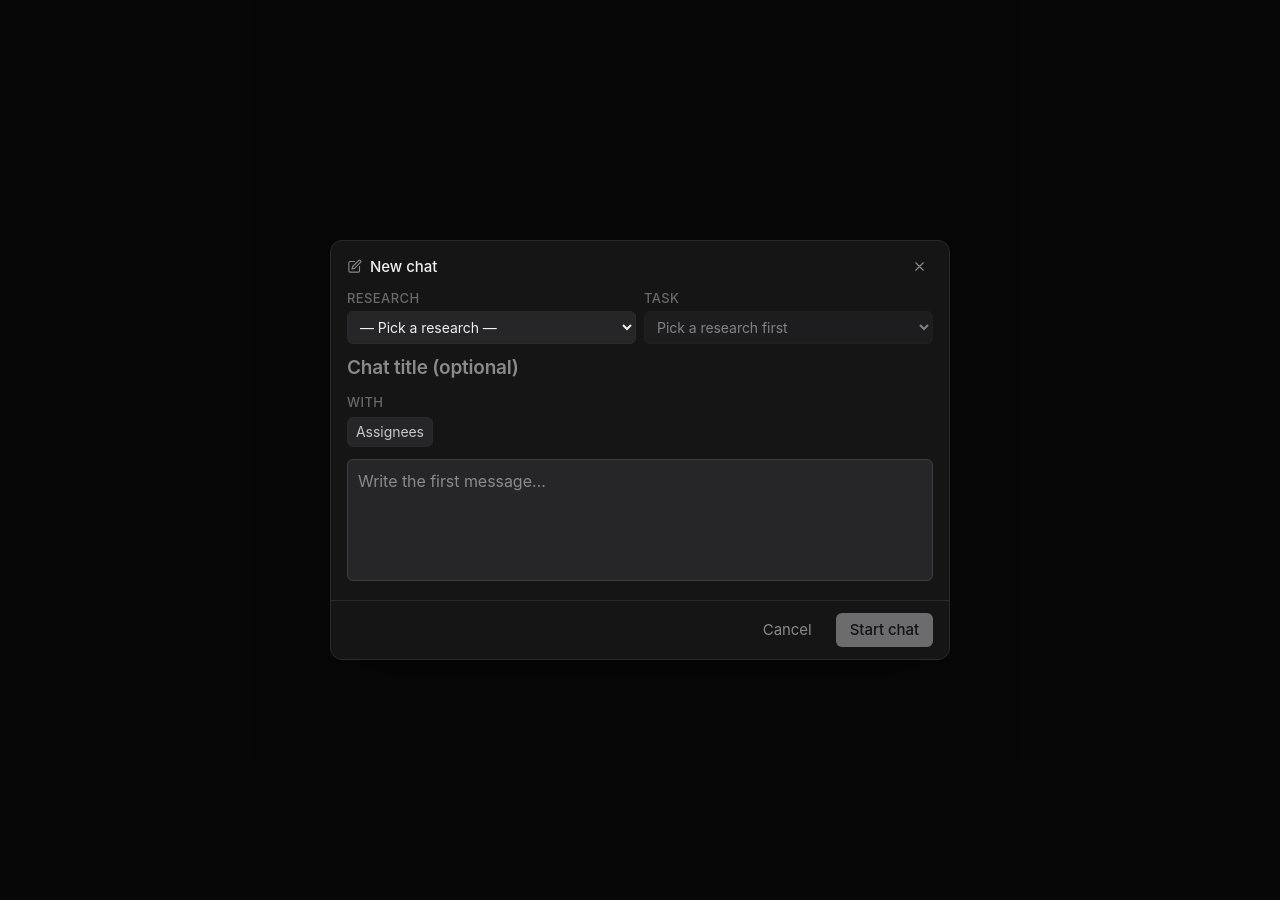
Test: will not start until it has a subject and something to say
Check: the button "Start chat" is disabled, box [836,613,933,647]
Check: the dropdown labelled "Task" is disabled, box [644,311,933,344]
Step 1. Select "CMP · Cross-modal plasticity in the brain" in the dropdown labelled "Research" → (492, 328), box [347,311,636,344]
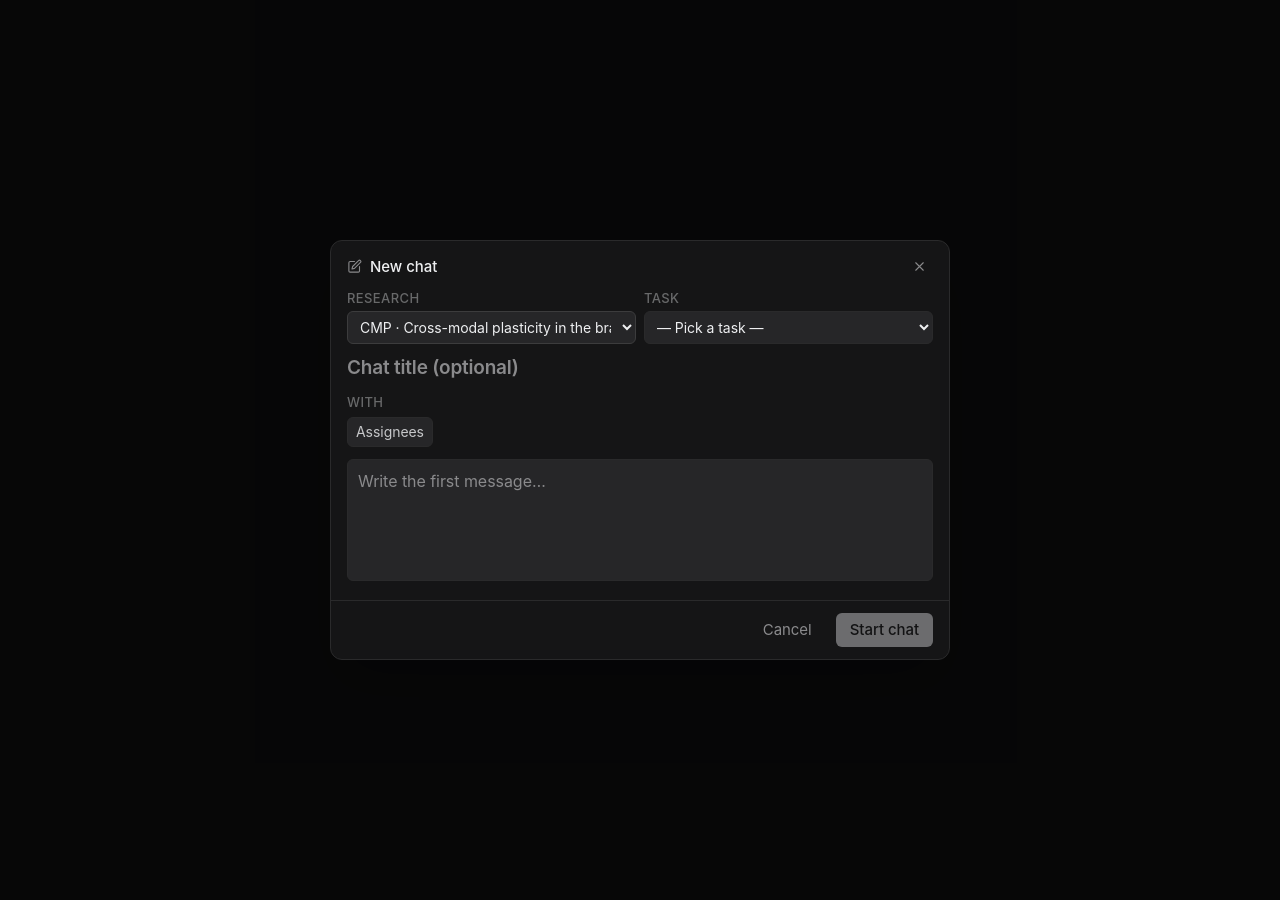
Check: the button "Start chat" is disabled, box [836,613,933,647]
Step 2. Select "CMP-3 · Preprocess two-photon calcium traces" in the dropdown labelled "Task" → (788, 328), box [644,311,933,344]
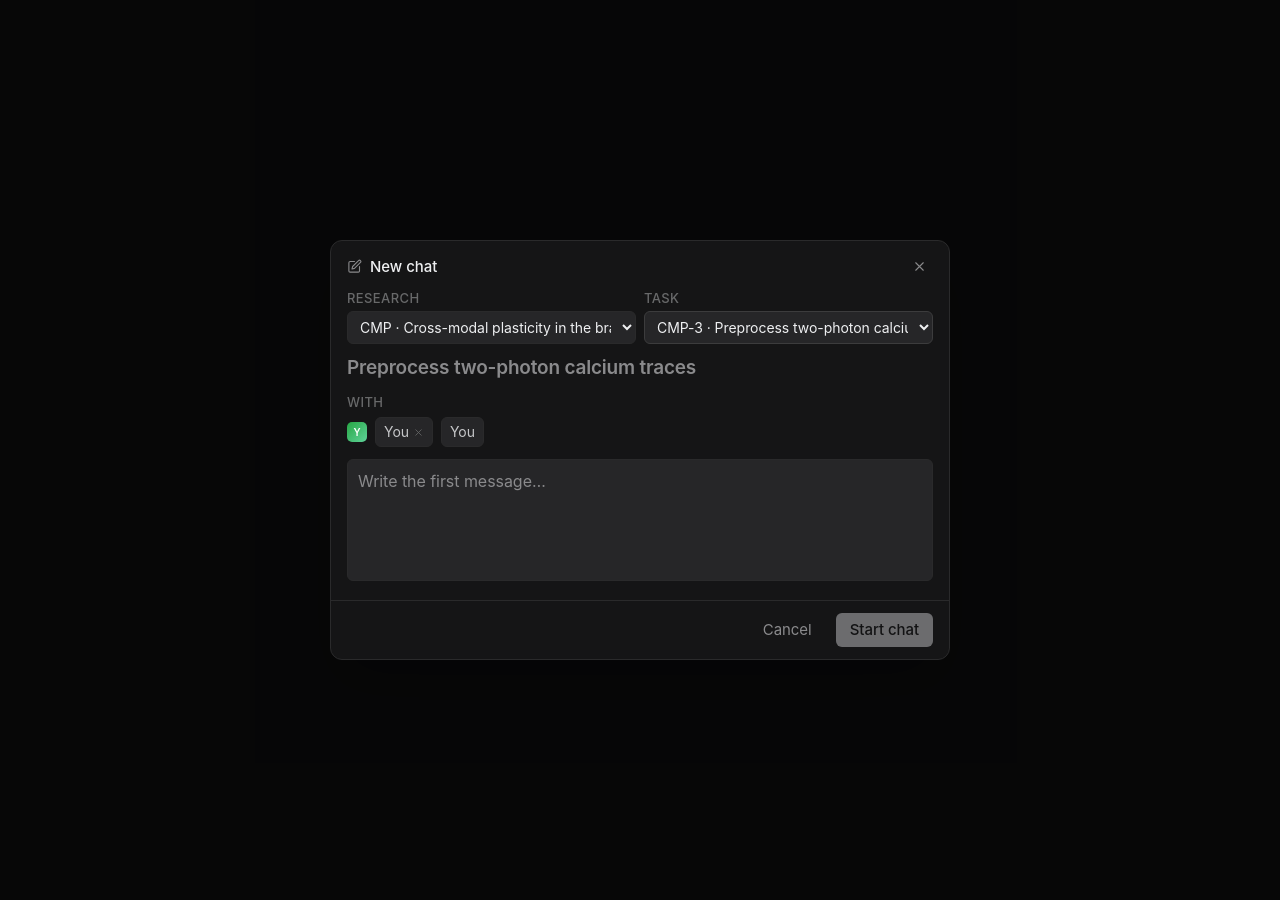
Check: the button "Start chat" is disabled, box [836,613,933,647]
Step 3. Type "Does 512 hold up?" into the text box labelled "first message" → (640, 520), box [347,459,933,581]
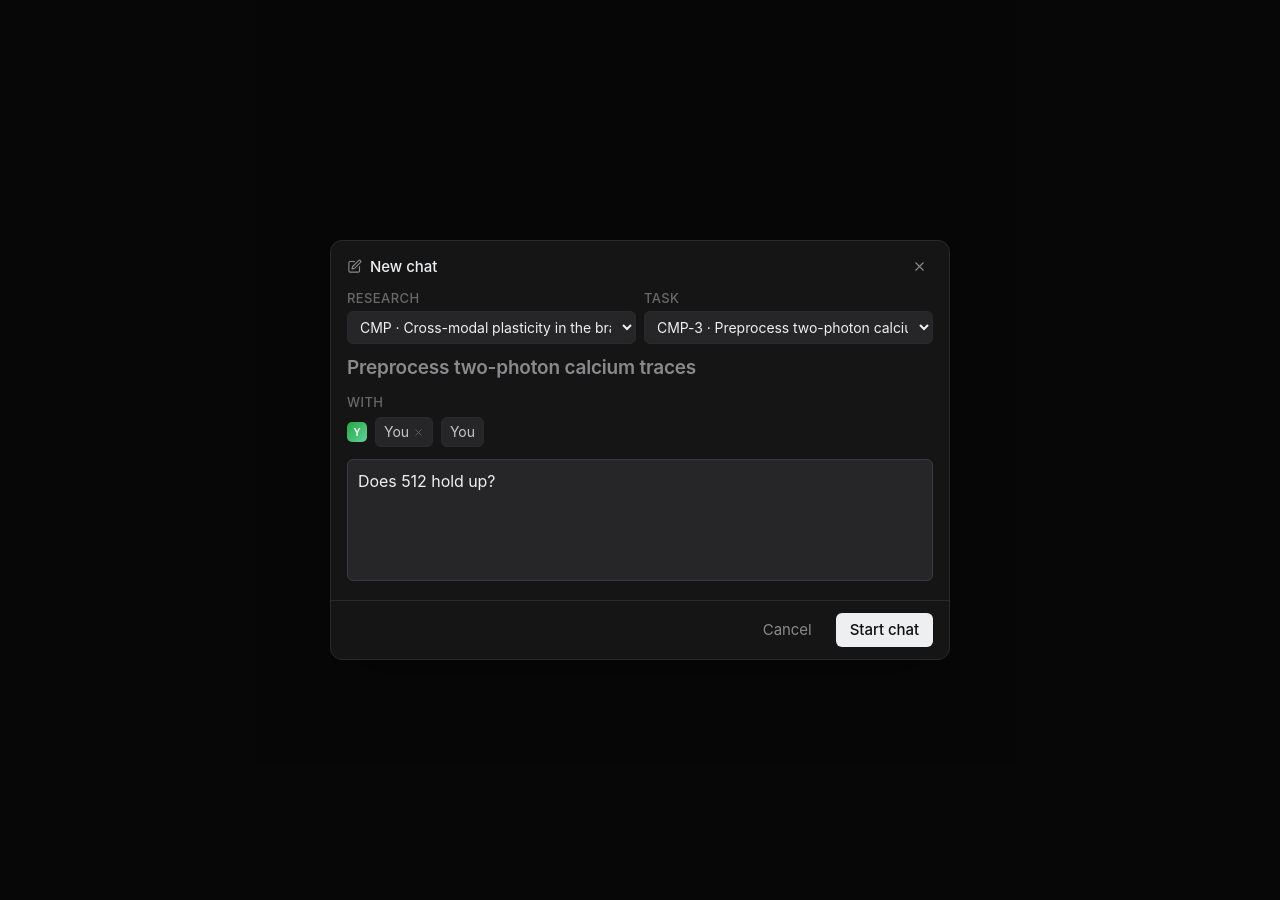
Check: the button "Start chat" is enabled, box [836,613,933,647]
